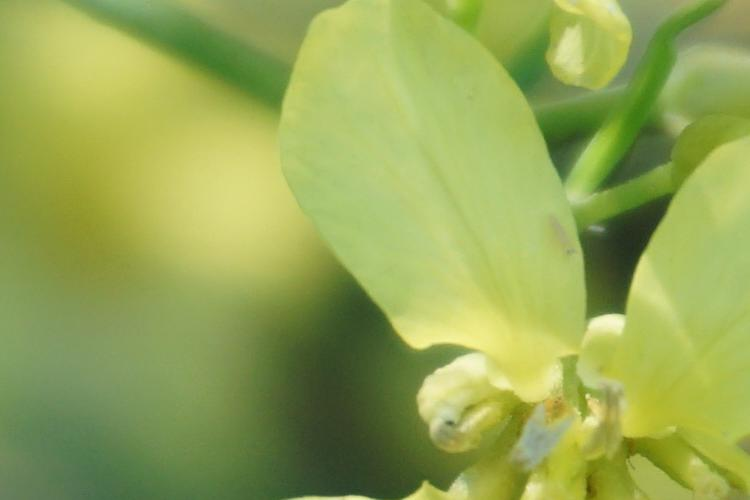yellow: (284, 17, 750, 499)
